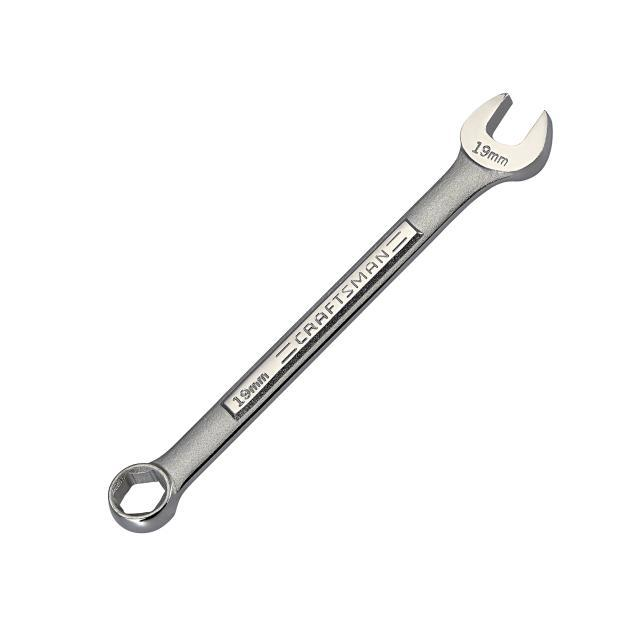wrench: (103, 88, 553, 535)
